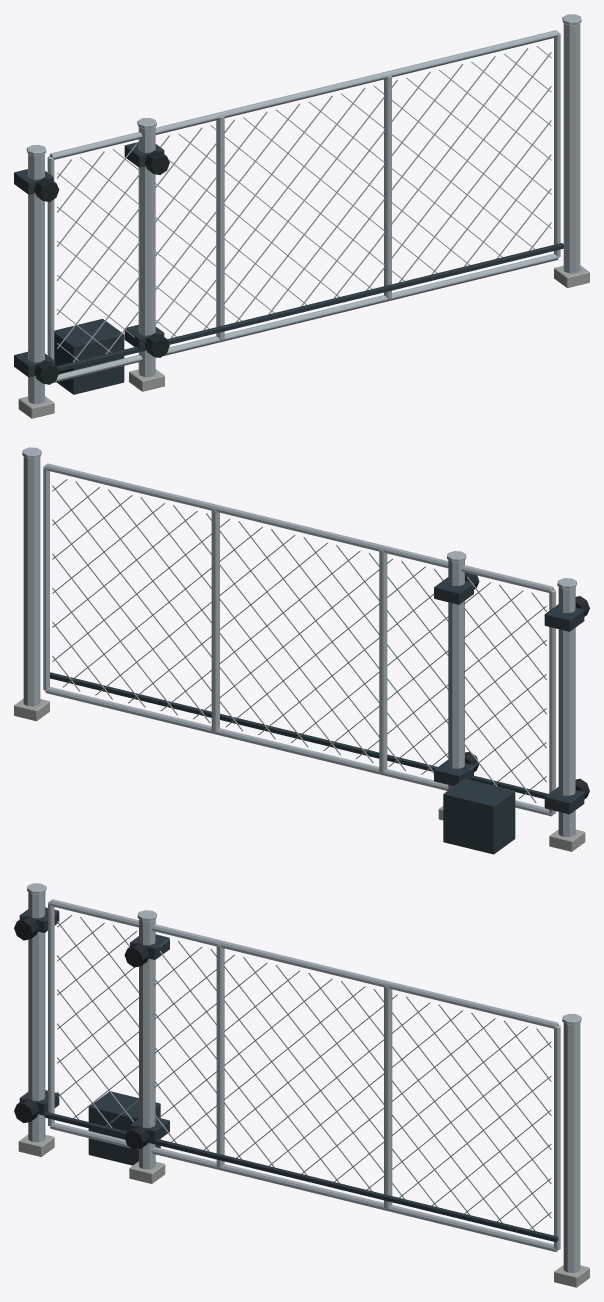
The model's file is b19_cantilever_security_slide_gate.glb.
3 views of the same model, one above another, from view 1: azimuth 30°, elevation 25°; view 2: azimuth 150°, elevation 25°; view 3: azimuth 330°, elevation 25° (orthographic).
Visible parts, largest first — view 1: b19_cantilever_security_slide_gate; view 2: b19_cantilever_security_slide_gate; view 3: b19_cantilever_security_slide_gate.
Boxes of the visible parts, <box> form: b19_cantilever_security_slide_gate: <box>14,14,589,418</box>; b19_cantilever_security_slide_gate: <box>14,447,589,854</box>; b19_cantilever_security_slide_gate: <box>14,883,589,1287</box>.
Size of the model in its own units: 4.81 by 2.16 by 0.63.
